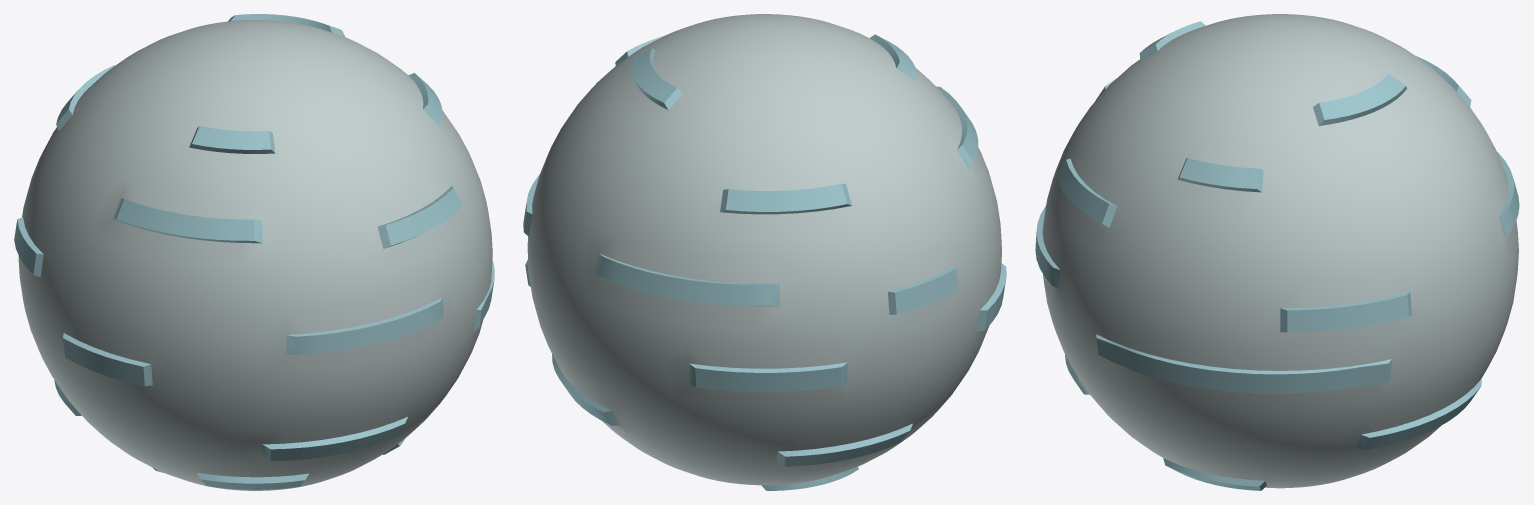
Rendered from Planet 9.glb.
3 renders of one model, left to right at view 1: azimuth 30°, elevation 25°; view 2: azimuth 150°, elevation 25°; view 3: azimuth 270°, elevation 25°, orthographic.
Visible parts, largest first — view 1: Planet_9; view 2: Planet_9; view 3: Planet_9.
Boxes of the visible parts, <box> form: Planet_9: <box>14,14,494,490</box>; Planet_9: <box>523,14,1006,490</box>; Planet_9: <box>1035,14,1519,490</box>.
Bounding box in the file's own units: 3.81 × 3.75 × 3.81.
1 material, 1 textured.
